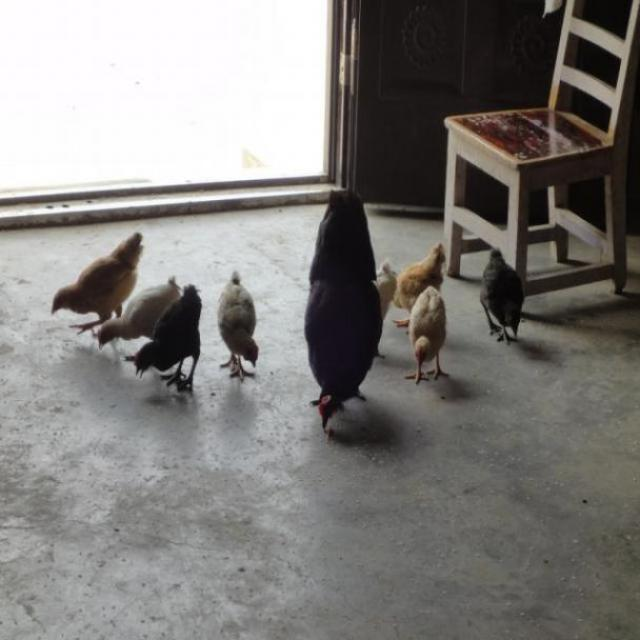Chicken: (302, 186, 389, 436), (40, 224, 147, 341), (128, 275, 203, 403), (89, 265, 180, 360), (478, 238, 527, 357), (216, 266, 266, 382), (403, 276, 452, 390), (393, 236, 441, 330), (372, 243, 395, 372)
